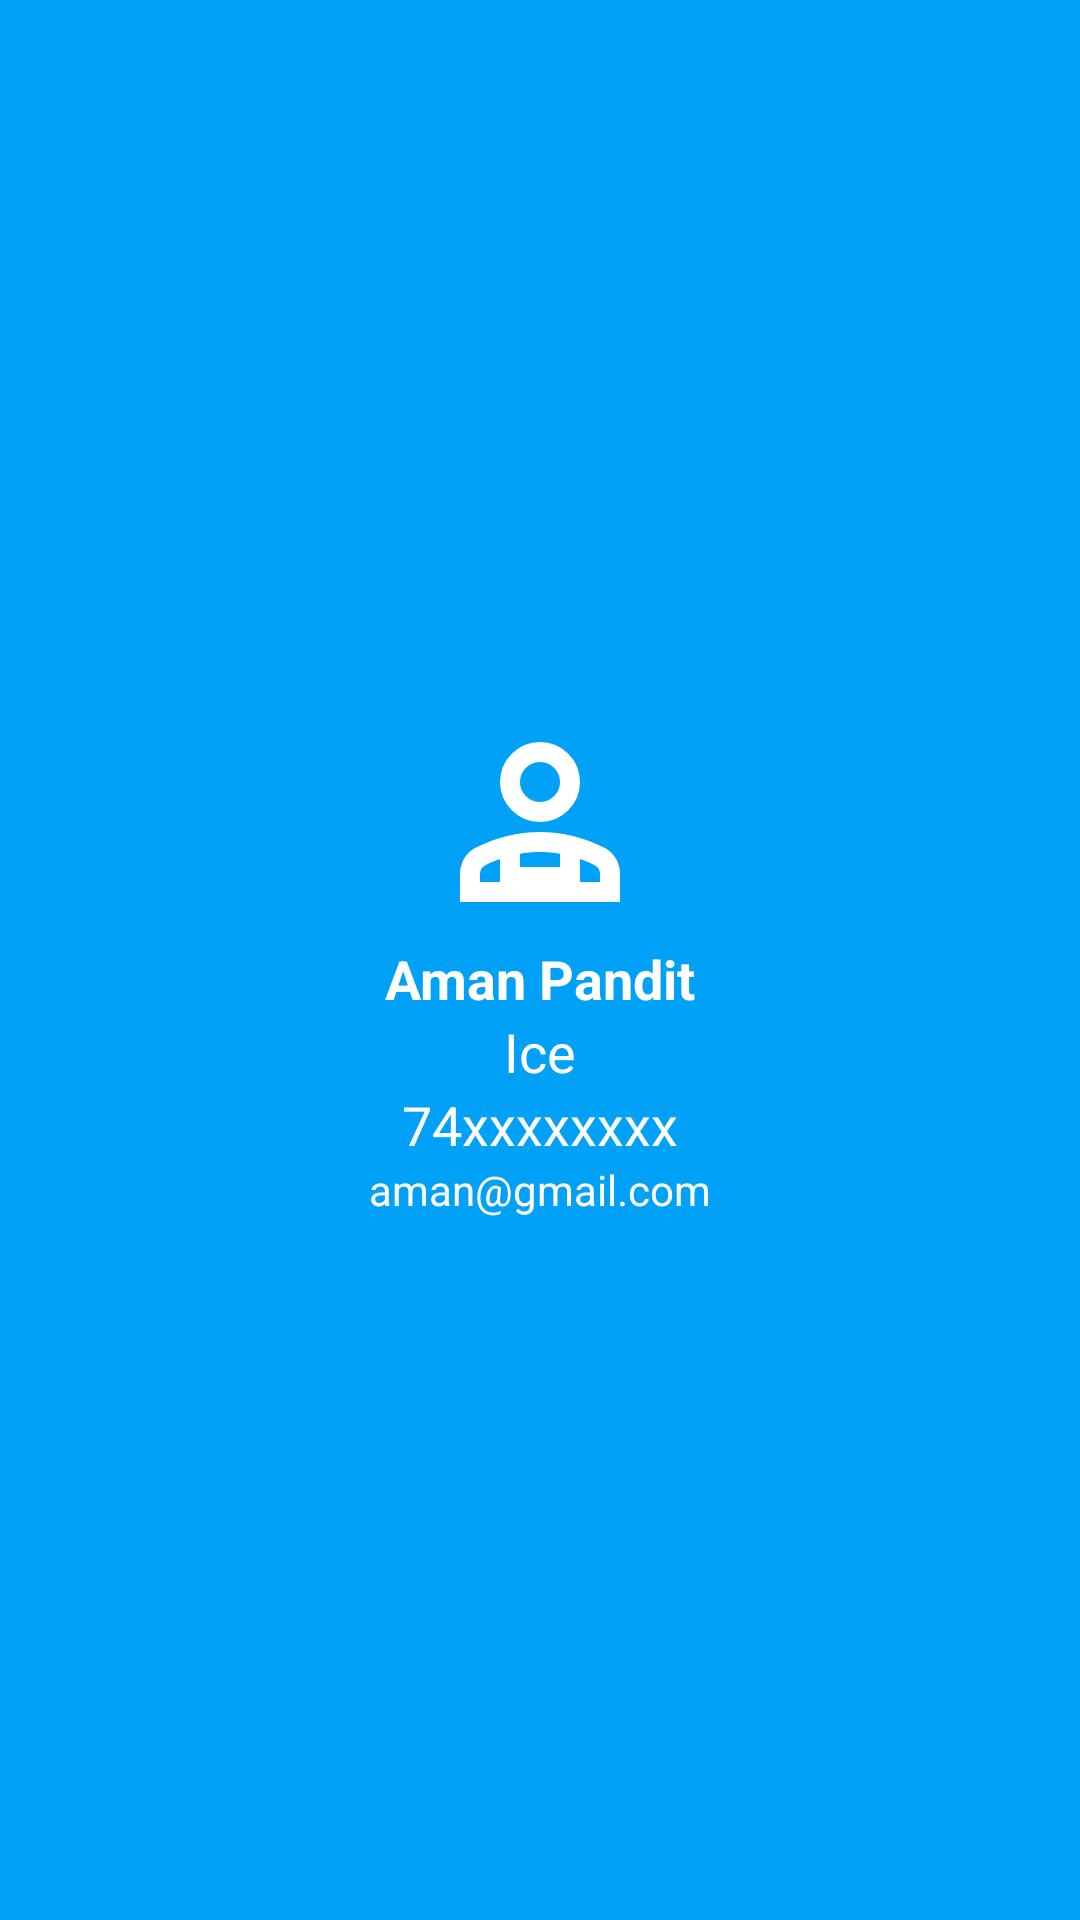

Where icons sit on this 1080*1920 app screen, as detection(x1, y1, x2, y2):
profile: detection(460, 742, 620, 902)
